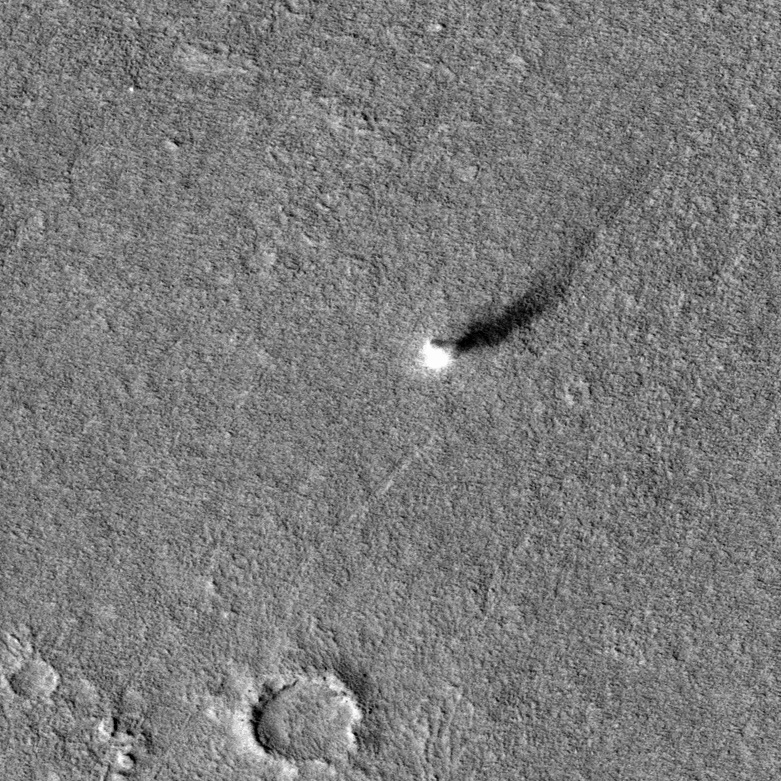dust_devil: (418, 223, 601, 375)
